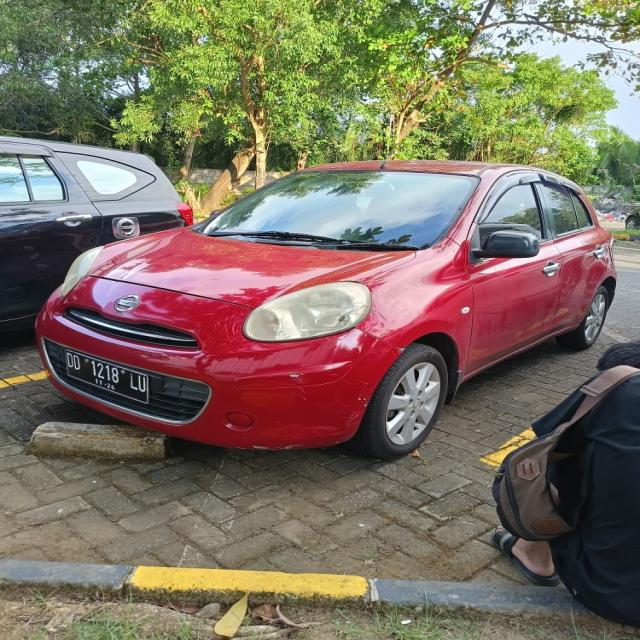plates: (51, 346, 162, 404)
